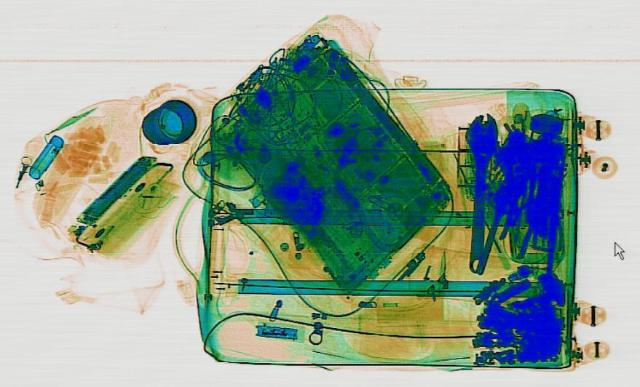Wrench: (462, 111, 496, 272)
